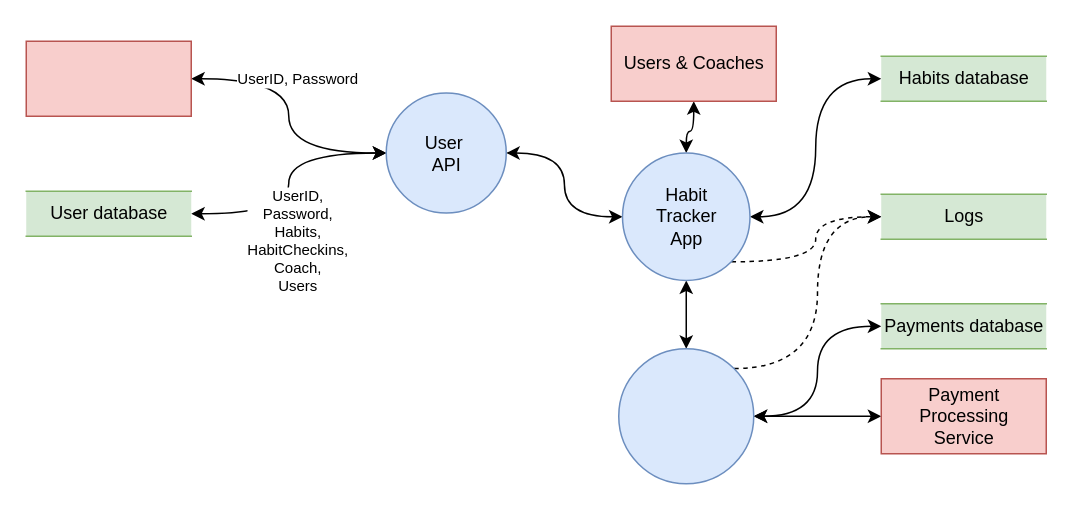
The diagram is 1073 pixels wide and 510 high, and some of its shapes have lost their labels. Each missing label, with the centre of its shape:
Authentication service: point 108,78
Payments API: point 685,415
